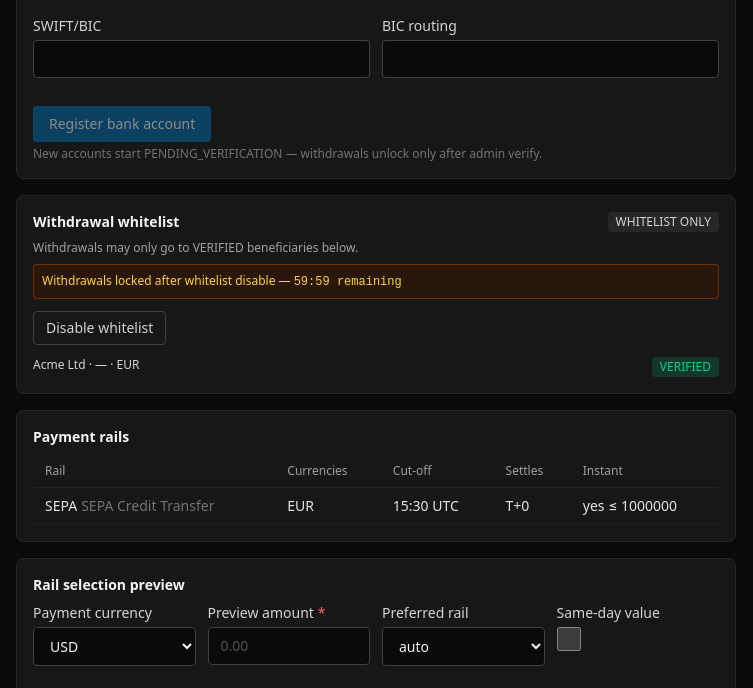
AccountsPanel › enables whitelist-only mode and shows the disable lock countdown
(page scrolled)
Expected: the text "WHITELIST ONLY" is shown, [608, 212, 719, 232]
Expected: the text "59:59 remaining" is shown, [294, 275, 402, 289]
Click the button "Disable whitelist" at point(100, 328), box [33, 311, 166, 345]
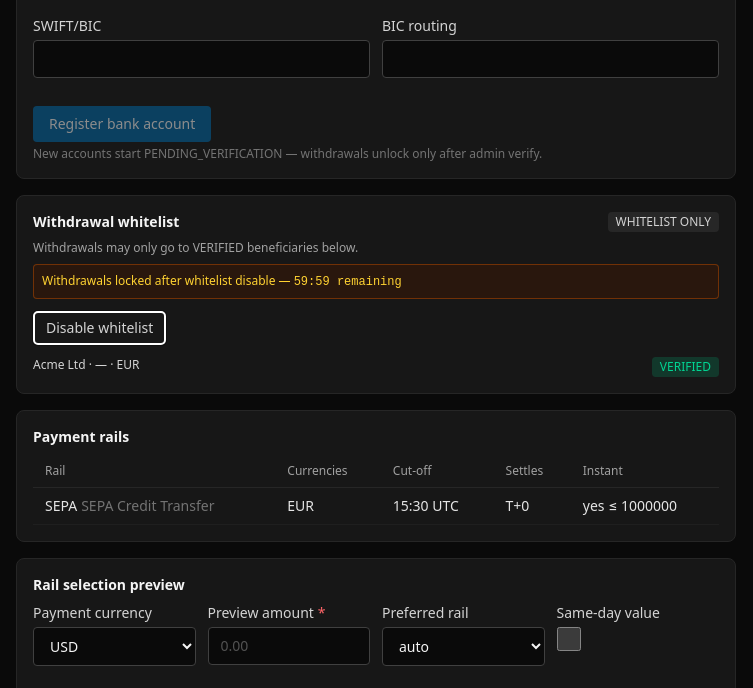
// rail-selection preview
Type "5000" into the field labelled "Preview amount*" at point(289, 646), box [208, 627, 370, 665]
(page scrolled)
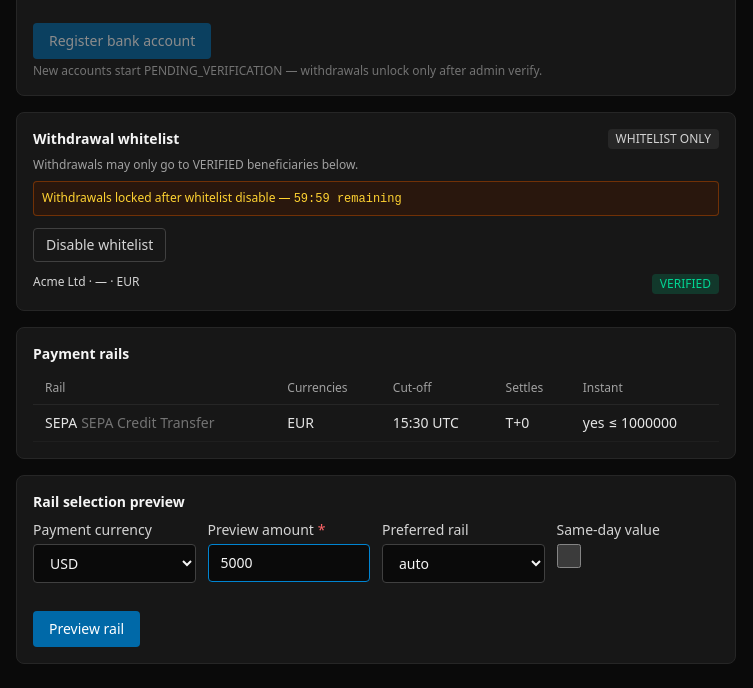
Click the button "Preview rail" at point(87, 629), box [33, 611, 140, 647]
(page scrolled)
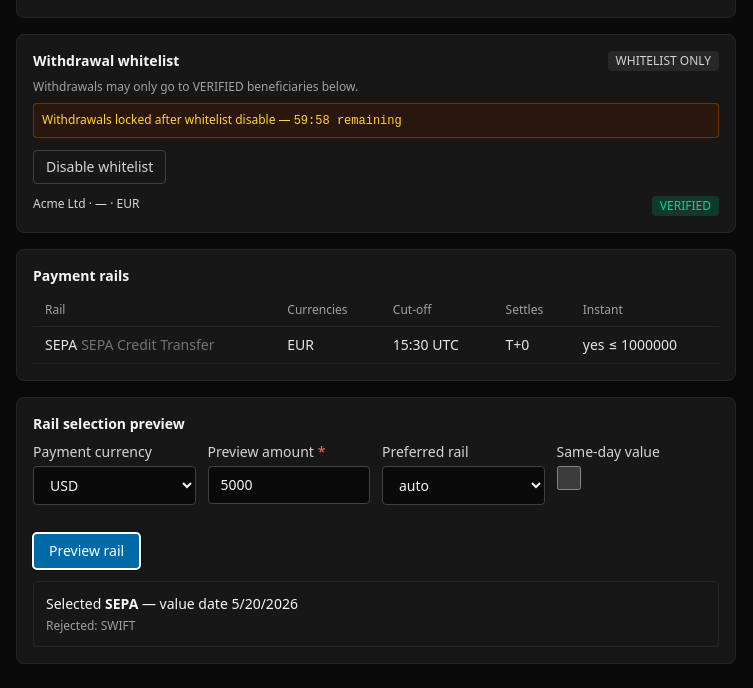
Result: the text "Selected SEPA — value date 5/20/2026" is shown at [46, 594, 298, 613]
